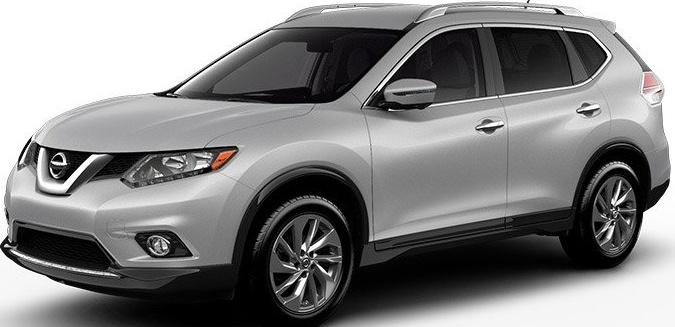SUV: (1, 4, 669, 325)
